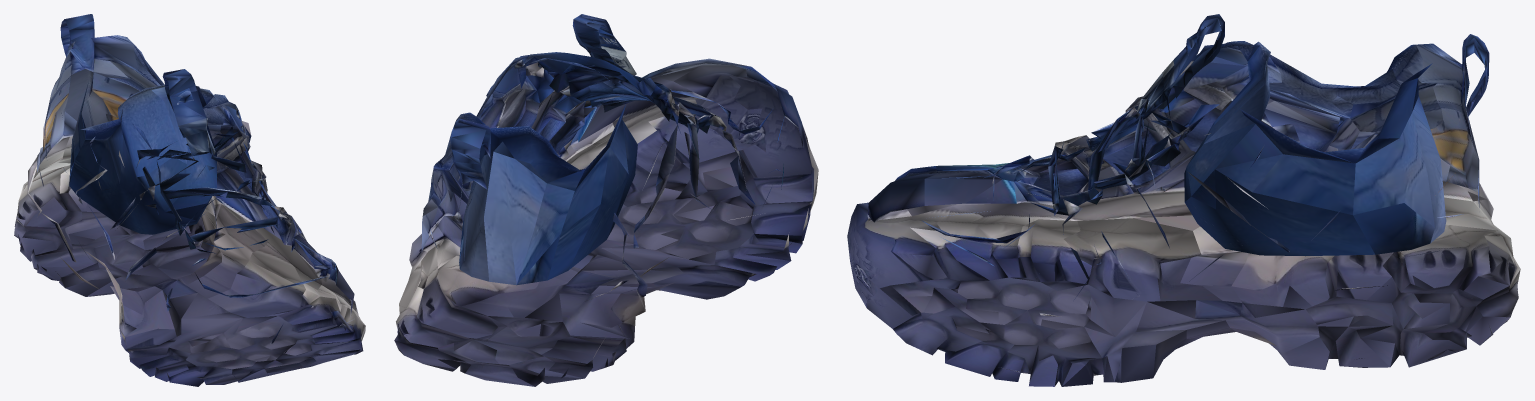
The model's file is tenis_correr_rightFoot.glb.
3 views of the same model, side by side, from view 1: azimuth 30°, elevation 25°; view 2: azimuth 150°, elevation 25°; view 3: azimuth 270°, elevation 25° (orthographic). The views are drawn at different scales.
Parts seen in each view (by area): view 1: tenis_correr.001; view 2: tenis_correr.001; view 3: tenis_correr.001.
Boxes of the visible parts, x1,y1,x2,y2 form: tenis_correr.001: (14,14,365,386); tenis_correr.001: (394,14,818,386); tenis_correr.001: (847,14,1520,386).
Bounding box in the file's own units: 0.1332 × 0.1499 × 0.2986.
Materials: 1 (1 with a texture image).
